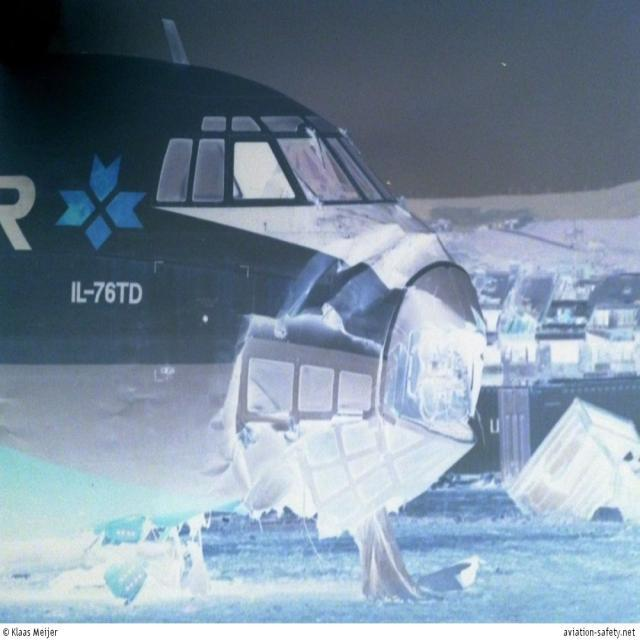dent: (202, 410, 236, 480)
